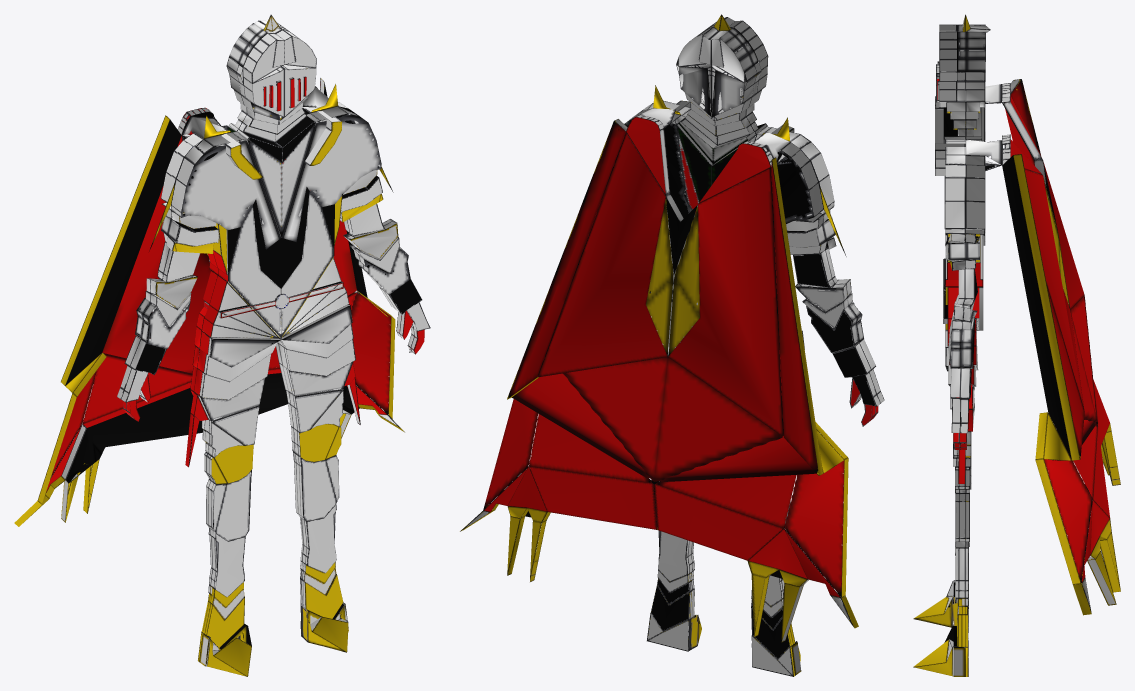
The model's file is KnightlayoutUVSmooth.obj.
3 views of the same model, side by side, from view 1: azimuth 30°, elevation 25°; view 2: azimuth 150°, elevation 25°; view 3: azimuth 270°, elevation 25° (orthographic). The views are drawn at different scales.
Parts seen in each view (by area): view 1: Plane; view 2: Plane; view 3: Plane.
Part boxes in pixels (box(x1,y1,x2,y2)): Plane: box(14, 14, 430, 676); Plane: box(460, 14, 884, 676); Plane: box(913, 14, 1120, 676).
Bounding box in the file's own units: 12.79 × 19.93 × 5.97.
